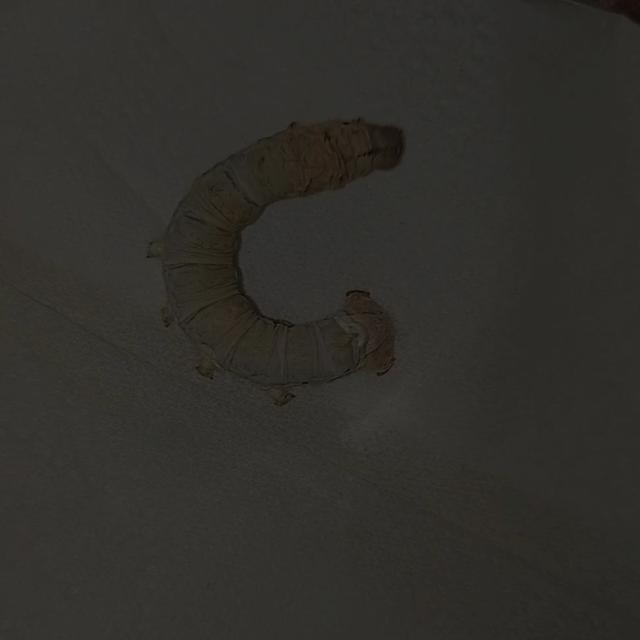Healthy: (120, 88, 426, 441)
